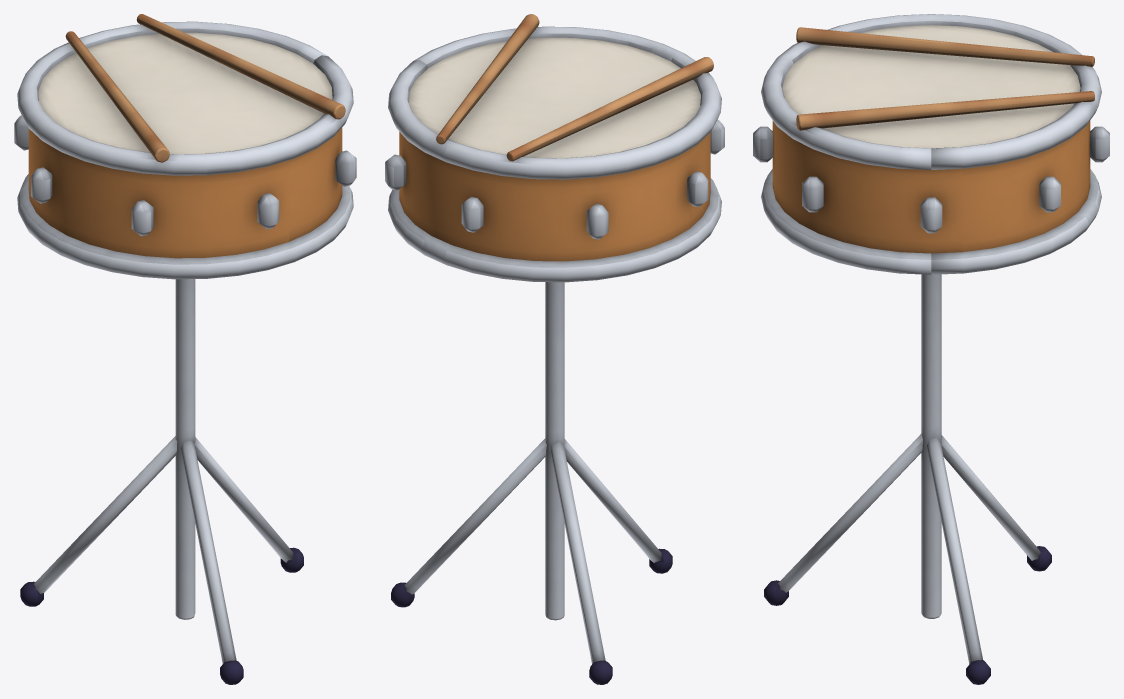
The model's file is Snare.fbx.
The picture shows the model from 3 angles, left to right: view 1: azimuth 30°, elevation 25°; view 2: azimuth 150°, elevation 25°; view 3: azimuth 270°, elevation 25°; orthographic projection.
Visible parts, largest first — view 1: Pad_38_Mesh.001, Snare_Body; view 2: Pad_38_Mesh.001, Snare_Body; view 3: Pad_38_Mesh.001, Snare_Body.
Part boxes in pixels (<box>): Pad_38_Mesh.001: <box>14,21,356,279</box>; Snare_Body: <box>20,14,345,684</box>; Pad_38_Mesh.001: <box>385,26,724,282</box>; Snare_Body: <box>391,14,713,684</box>; Pad_38_Mesh.001: <box>753,14,1109,274</box>; Snare_Body: <box>764,27,1094,684</box>.
Bounding box in the file's own units: 0.494 × 0.8373 × 0.494.
